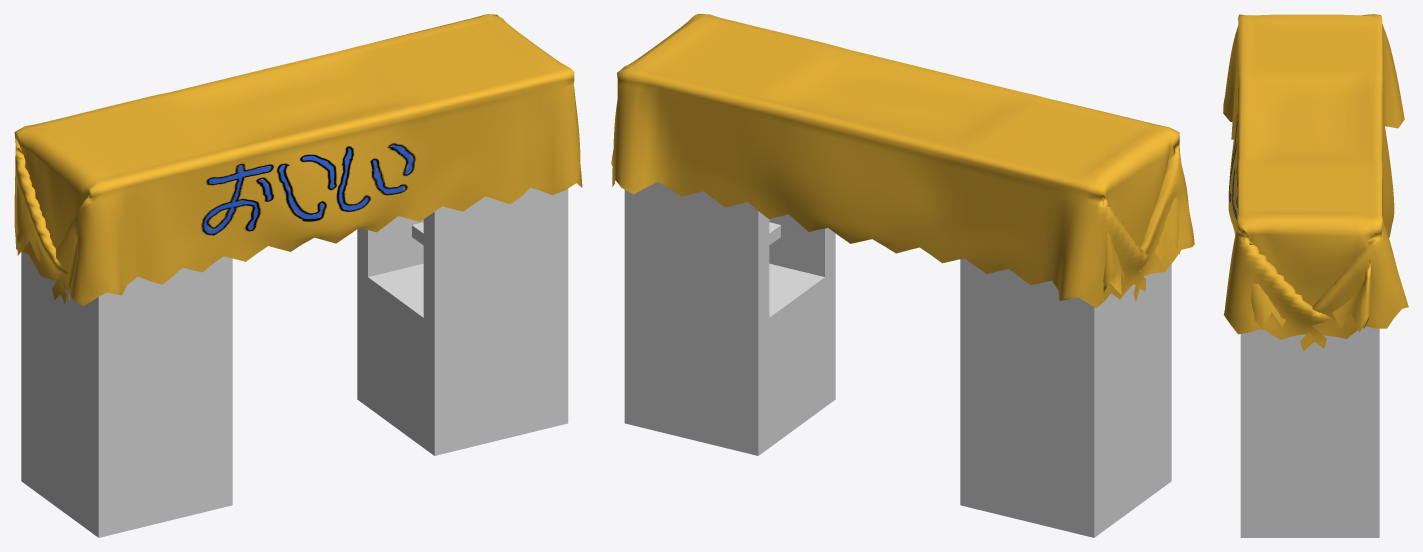
File: FoodStall.fbx
The picture shows the model from 3 angles, left to right: view 1: azimuth 30°, elevation 25°; view 2: azimuth 150°, elevation 25°; view 3: azimuth 270°, elevation 25°; orthographic projection. The views are drawn at different scales.
Parts seen in each view (by area): view 1: Plane, Cube; view 2: Plane, Cube; view 3: Plane, Cube.
Boxes of the visible parts, x1,y1,x2,y2 form: Plane: [14, 14, 582, 306]; Cube: [21, 187, 568, 537]; Plane: [611, 14, 1194, 307]; Cube: [624, 182, 1171, 537]; Plane: [1223, 14, 1408, 350]; Cube: [1240, 326, 1379, 537].
Size of the model in its own units: 768 by 508 by 268.
